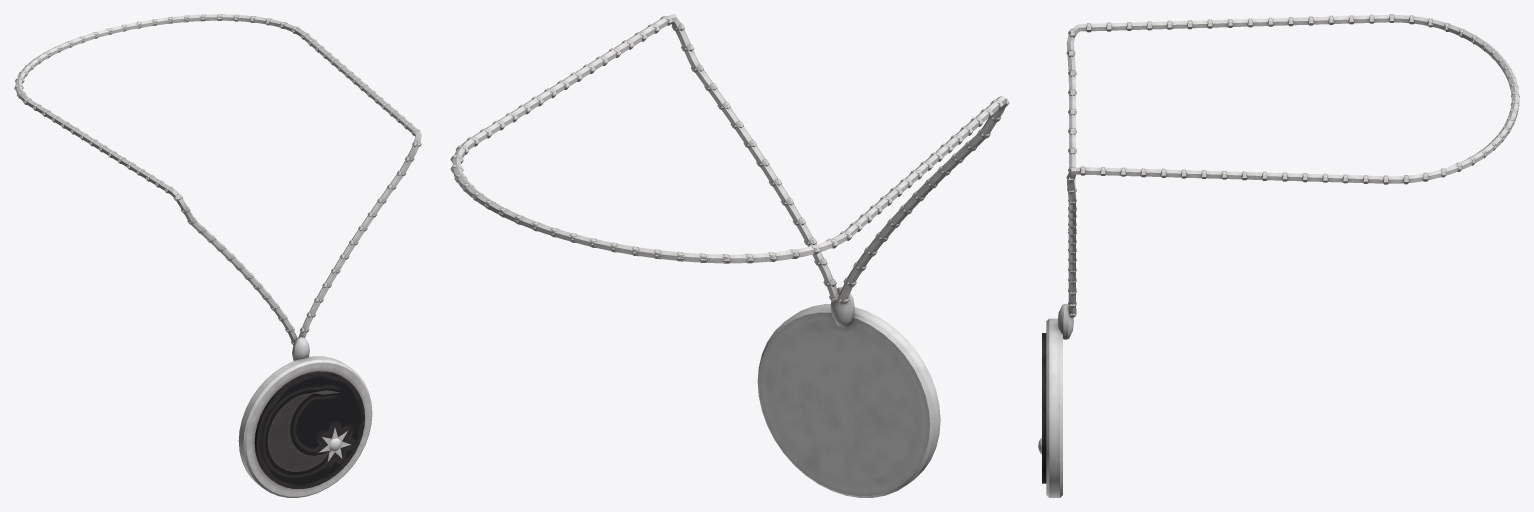
Rendered from NHAcc_SilverSigil.fbx.
3 renders of one model, left to right at view 1: azimuth 30°, elevation 25°; view 2: azimuth 150°, elevation 25°; view 3: azimuth 270°, elevation 25°, orthographic. The views are drawn at different scales.
Parts seen in each view (by area): view 1: SilverSigil; view 2: SilverSigil; view 3: SilverSigil.
Part boxes in pixels (box(x1,y1,x2,y2)): SilverSigil: box(14, 14, 421, 497); SilverSigil: box(450, 14, 1009, 497); SilverSigil: box(1042, 14, 1519, 497).
Bounding box in the file's own units: 0.6992 × 0.7736 × 0.8567.
Materials: 2 (1 with a texture image).
